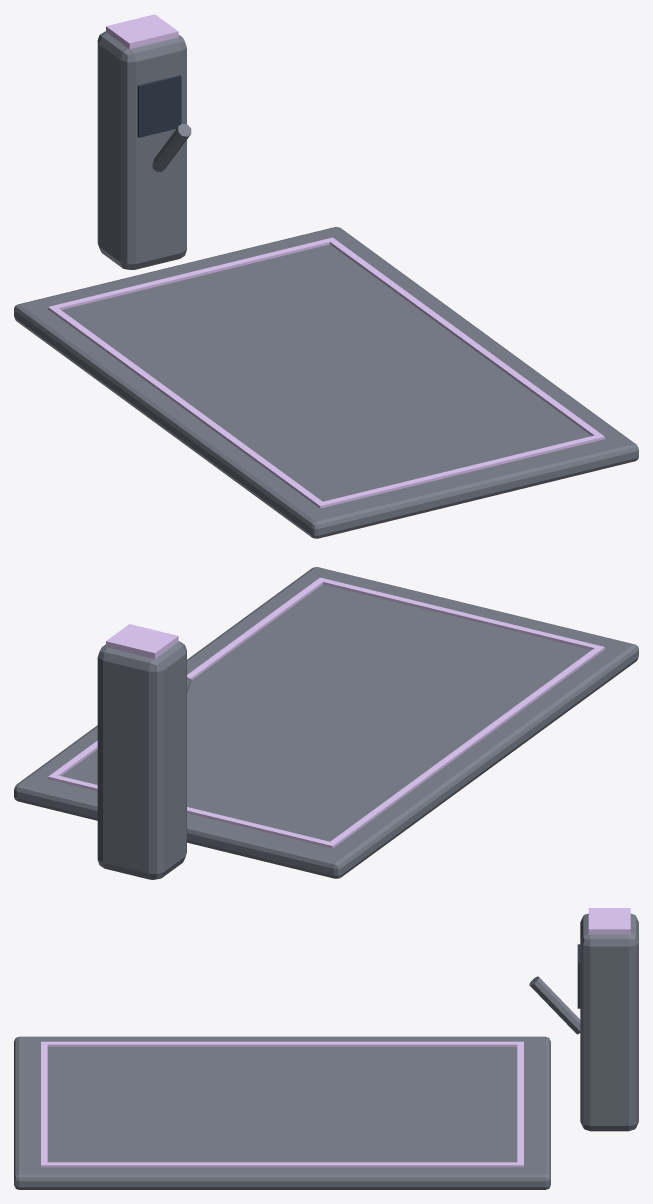
The model's file is PR_Base_Recarga.fbx.
The picture shows the model from 3 angles, top to bottom: view 1: azimuth 30°, elevation 25°; view 2: azimuth 150°, elevation 25°; view 3: azimuth 270°, elevation 25°; orthographic projection. The views are drawn at different scales.
Visible parts, largest first — view 1: PR_Base_Recarga; view 2: PR_Base_Recarga; view 3: PR_Base_Recarga.
Boxes of the visible parts, x1=… form: PR_Base_Recarga: x1=14, y1=14, x2=638, y2=538; PR_Base_Recarga: x1=14, y1=567, x2=638, y2=879; PR_Base_Recarga: x1=14, y1=908, x2=638, y2=1189.
Size of the model in its own units: 2 by 1.33 by 3.73.
